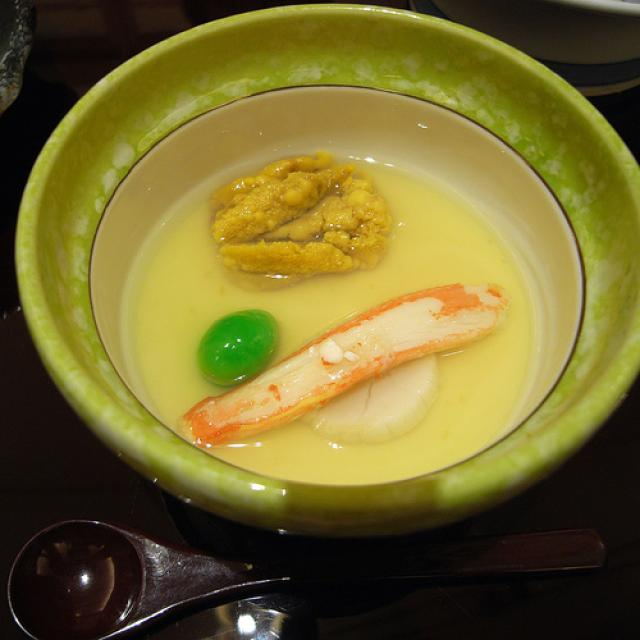鸡蛋料理: (52, 66, 495, 322)
